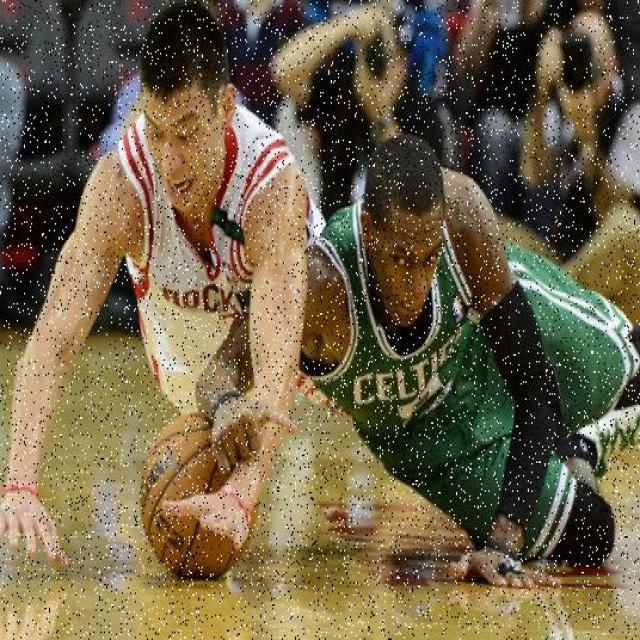fall: (278, 167, 629, 579)
